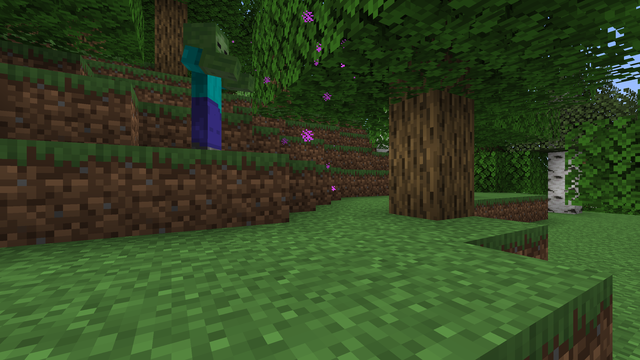zombies: (185, 19, 229, 130)
